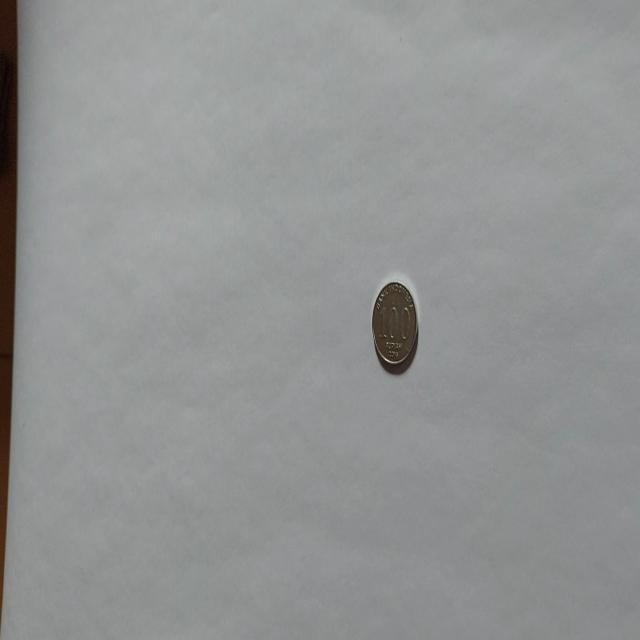seratus rupiah: (371, 279, 418, 373)
